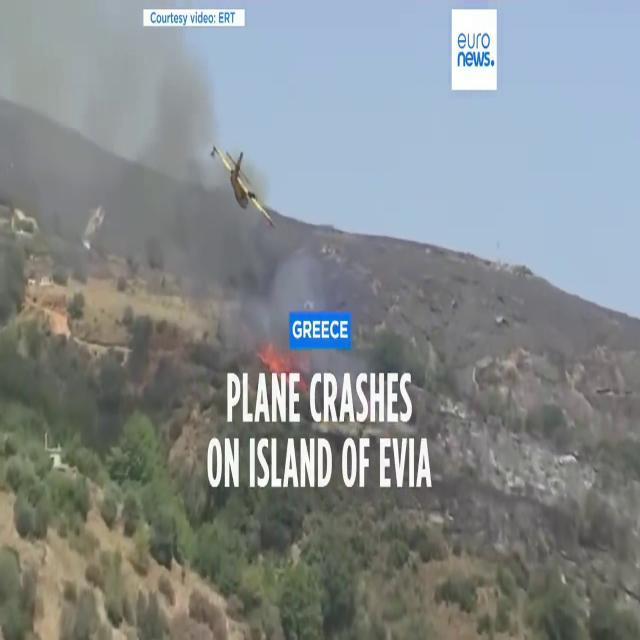Smoke: (0, 0, 261, 321)
